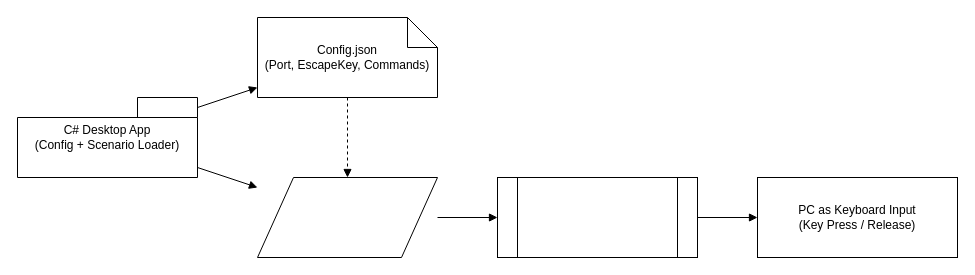
This 975x275 diagram has some shape labels left out. Each missing label, with the centre of its shape:
"Arduino Leonardo (Macro Executor)" goes at pixel 597 217.
"Serial Communication (COM Port)" goes at pixel 347 217.
